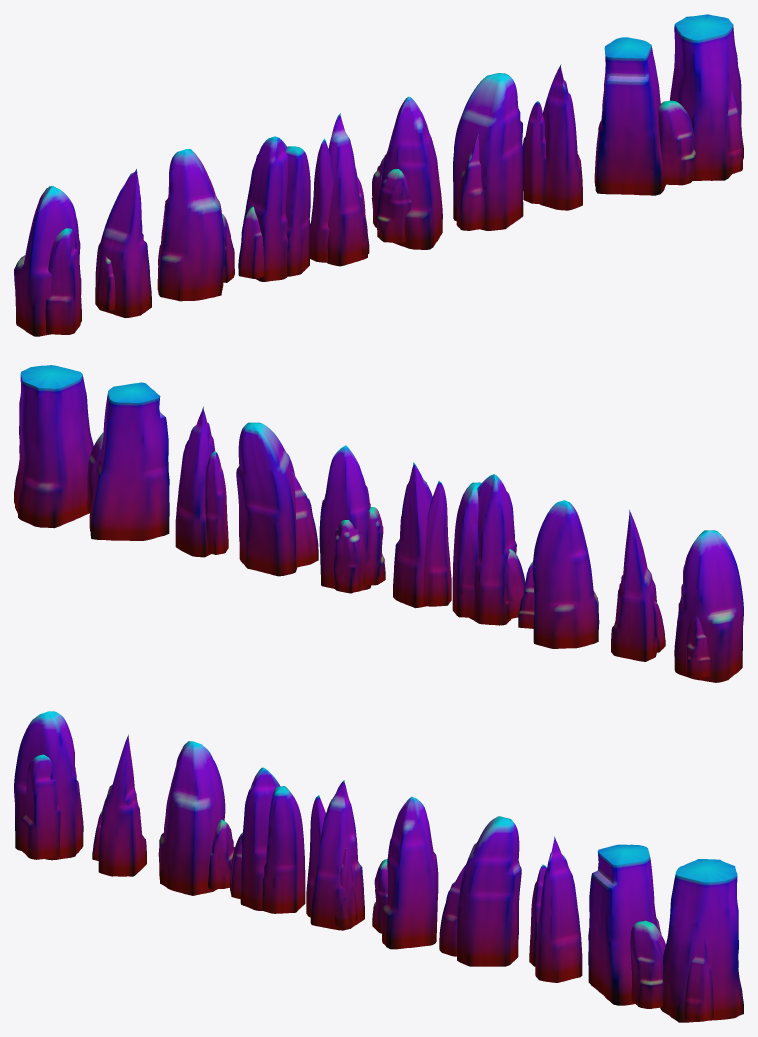
The model's file is mountains_lo.glb.
The picture shows the model from 3 angles, top to bottom: view 1: azimuth 30°, elevation 25°; view 2: azimuth 150°, elevation 25°; view 3: azimuth 330°, elevation 25°; orthographic projection.
Visible parts, largest first — view 1: mesa_0, peak_6, mesa_1, peak_2, peak_3, peak_0, peak_5, peak_4, peak_7, peak_1; view 2: mesa_0, mesa_1, peak_6, peak_3, peak_0, peak_2, peak_5, peak_4, peak_7, peak_1; view 3: mesa_1, mesa_0, peak_6, peak_2, peak_0, peak_3, peak_5, peak_4, peak_7, peak_1.
Part boxes in pixels (x1,y1,x2,y2): mesa_0: [594, 37, 696, 195]; peak_6: [453, 73, 523, 230]; mesa_1: [670, 14, 743, 180]; peak_2: [157, 149, 234, 301]; peak_3: [238, 136, 310, 281]; peak_0: [14, 186, 81, 336]; peak_5: [371, 96, 442, 249]; peak_4: [309, 113, 369, 266]; peak_7: [523, 64, 582, 210]; peak_1: [95, 169, 151, 317]; mesa_0: [87, 382, 169, 540]; mesa_1: [14, 365, 93, 528]; peak_6: [236, 422, 318, 576]; peak_3: [452, 474, 525, 625]; peak_0: [674, 530, 743, 682]; peak_2: [518, 500, 599, 648]; peak_5: [319, 445, 385, 593]; peak_4: [393, 462, 451, 608]; peak_7: [175, 406, 228, 557]; peak_1: [611, 509, 665, 661]; mesa_1: [660, 859, 743, 1022]; mesa_0: [588, 844, 665, 1008]; peak_6: [439, 816, 521, 966]; peak_2: [158, 741, 234, 895]; peak_0: [14, 711, 83, 860]; peak_3: [230, 767, 305, 913]; peak_5: [372, 796, 438, 949]; peak_4: [306, 780, 364, 930]; peak_7: [529, 836, 582, 982]; peak_1: [92, 734, 146, 876].
Size of the model in its own units: 593 by 108 by 63.79.
